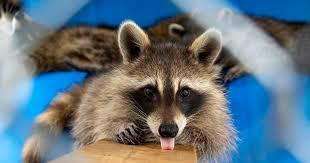raccoon: (12, 9, 252, 163), (0, 0, 153, 92), (162, 3, 309, 85)
